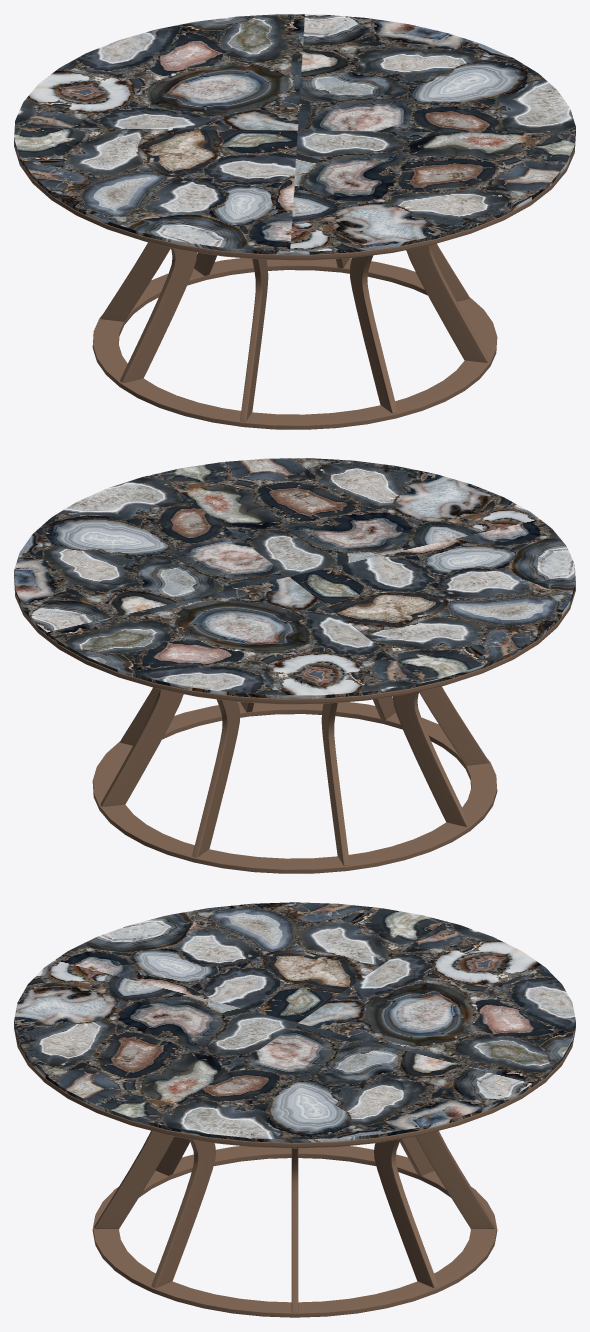
The model's file is SBH_SPIN_A.glb.
3 renders of one model, top to bottom at view 1: azimuth 30°, elevation 25°; view 2: azimuth 150°, elevation 25°; view 3: azimuth 270°, elevation 25°, orthographic.
Visible parts, largest first — view 1: SPIN_A; view 2: SPIN_A; view 3: SPIN_A.
Part boxes in pixels (x1,y1,x2,y2): SPIN_A: (14,14,575,429); SPIN_A: (14,458,575,873); SPIN_A: (14,902,575,1317).
Size of the model in its own units: 0.9024 by 0.375 by 0.9024.
Materials: 2 (1 with a texture image).
